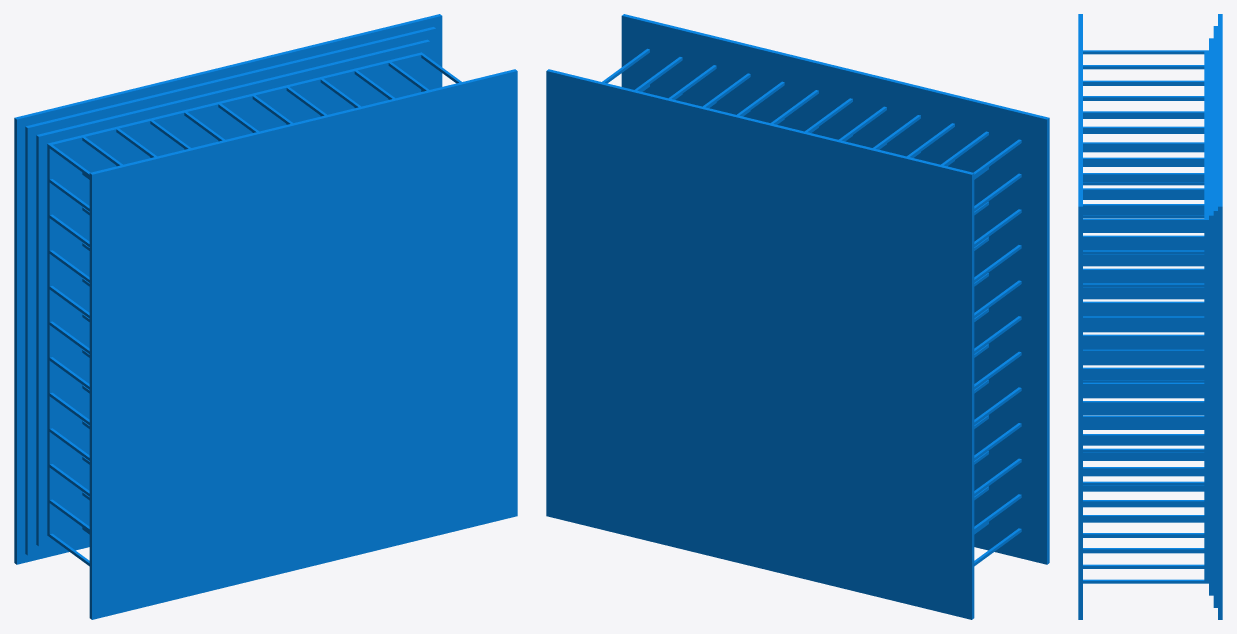
File: pavillion.gltf
3 renders of one model, left to right at view 1: azimuth 30°, elevation 25°; view 2: azimuth 150°, elevation 25°; view 3: azimuth 270°, elevation 25°, orthographic. The views are drawn at different scales.
Size of the model in its own units: 0.015 by 0.015 by 0.00475.
